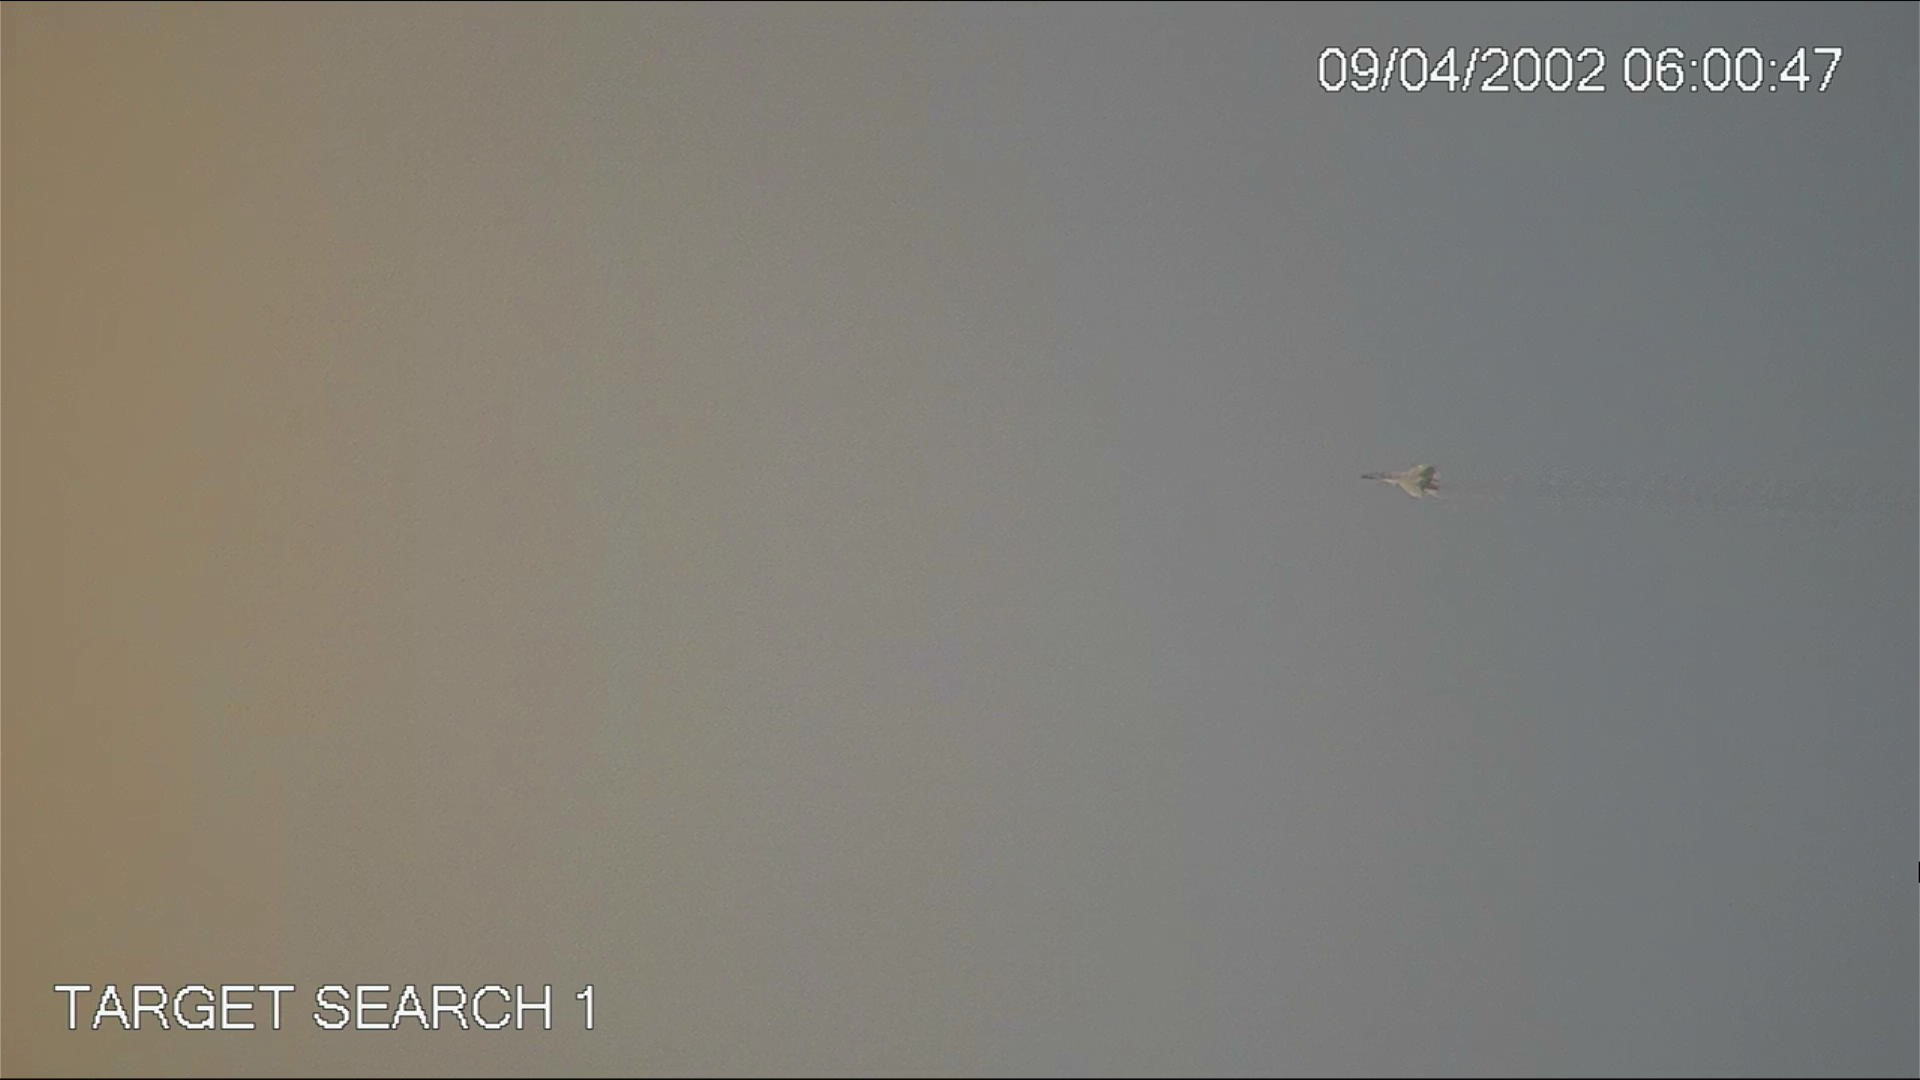SU_30: (1357, 458, 1444, 504)
